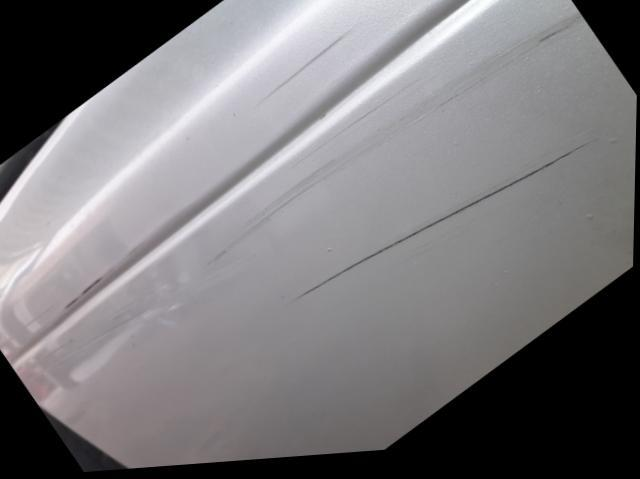scratch: (201, 21, 589, 276), (295, 141, 603, 310), (256, 29, 359, 112)
